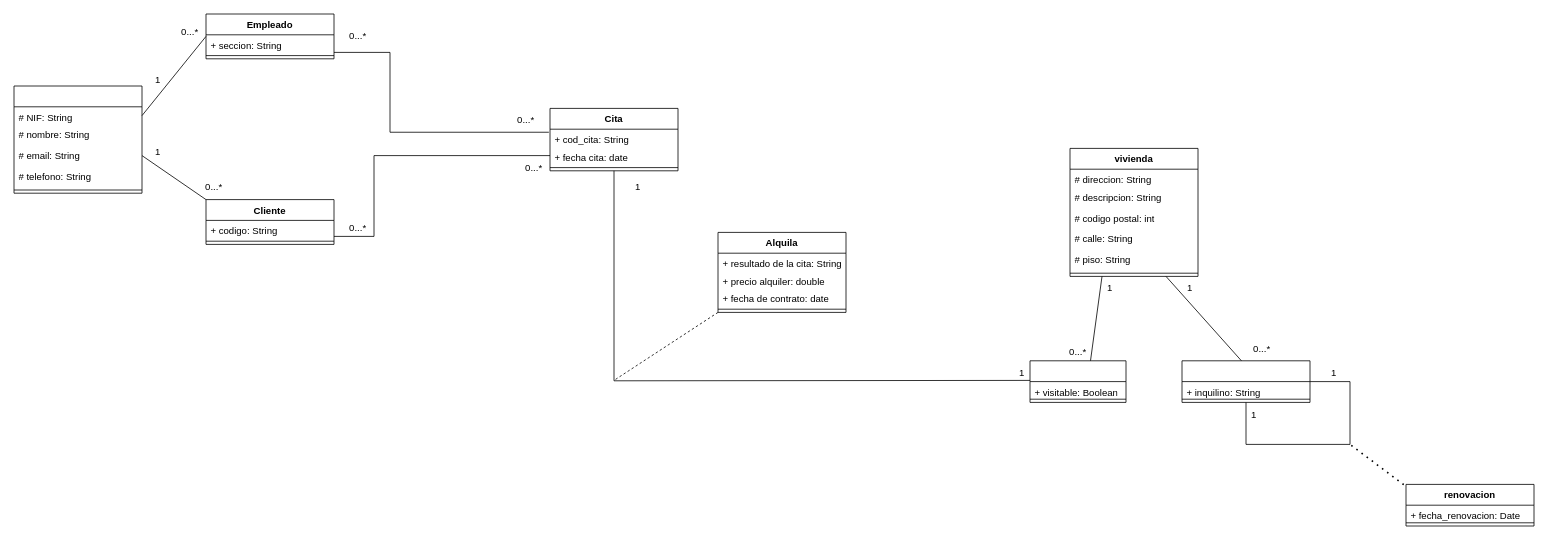
This 1548x540 diagram has some shape labels left out. Here are the shapes that lost their labels. From the top down, the box of each, then its label:
(13, 85, 142, 193): Persona
(1029, 360, 1126, 402): Libre
(1181, 360, 1310, 402): Ocupada
